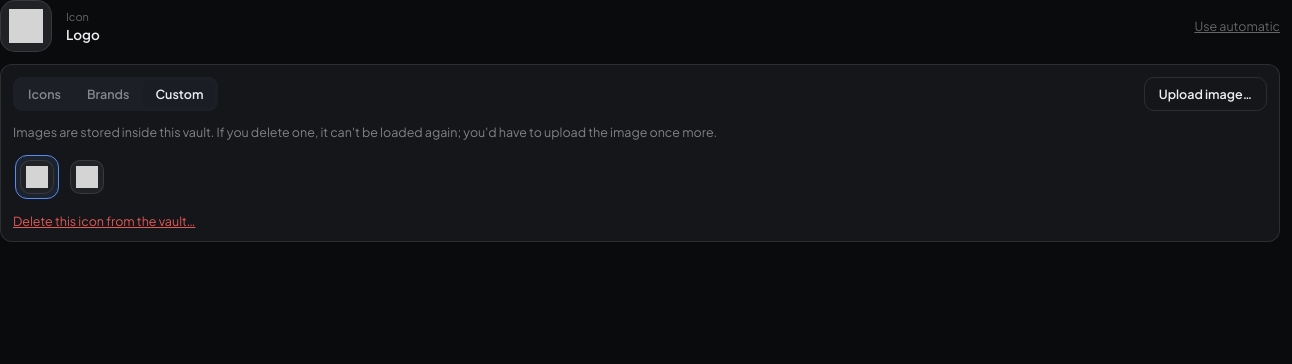
Test case: IconPicker custom icons › deleting › asks first, naming what will lose the icon
Click the button "Delete this icon from the vault…" at (104, 221), box x1=13 y1=213 x2=196 y2=229
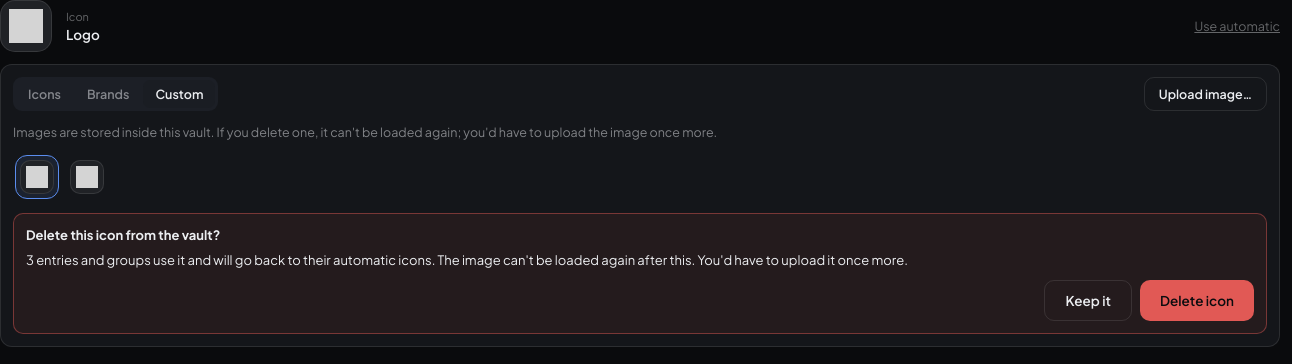
Check: the message shows "3 entries and groups use it and will go back to their automatic icons.", box x1=26 y1=252 x2=435 y2=268
Check: the message shows "can't be loaded again", box x1=435 y1=252 x2=908 y2=268
Click the button "Keep it" at (1088, 301), box x1=1044 y1=280 x2=1132 y2=321
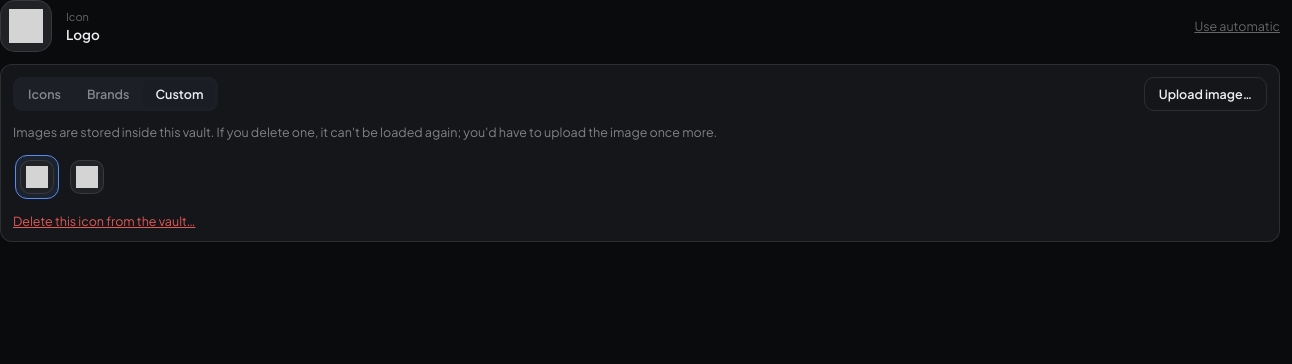
Check: the message is gone
